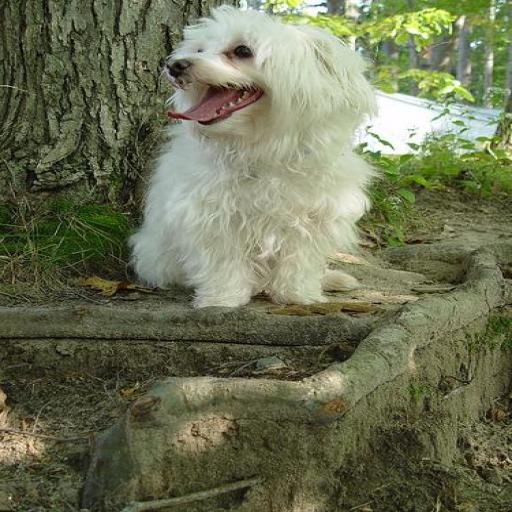dog_face: (150, 12, 361, 149)
